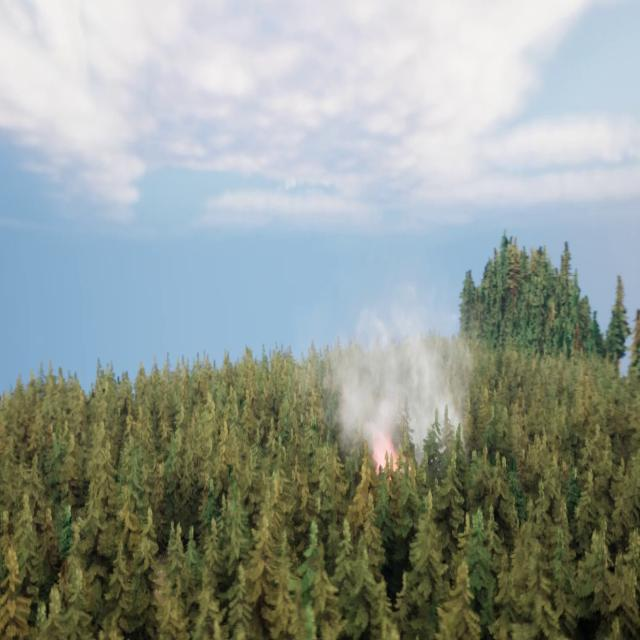fire: (375, 438, 400, 478)
smoke: (328, 280, 470, 461)
